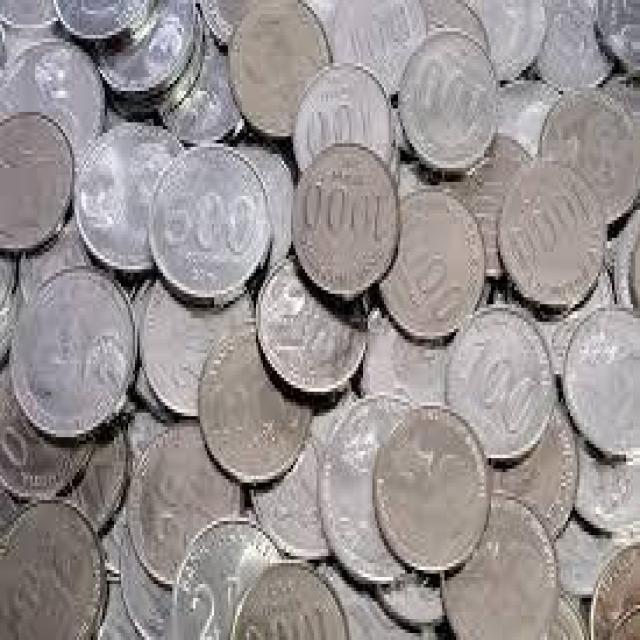500-silver: (143, 137, 270, 311)
